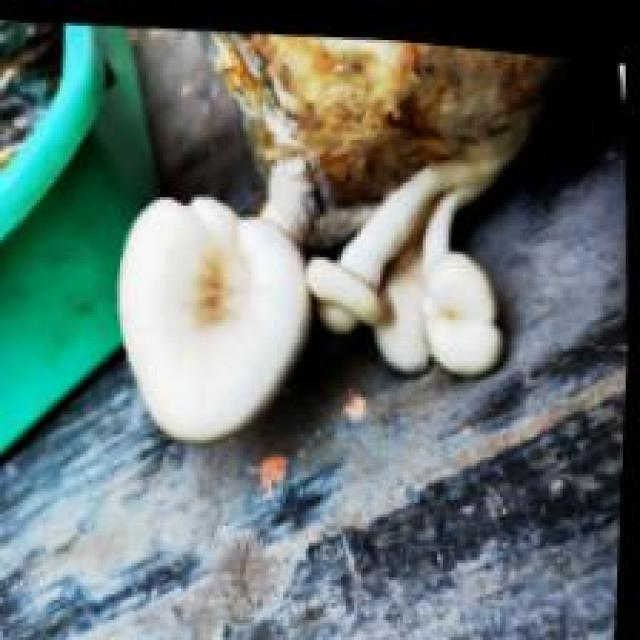field-mushroom: (115, 191, 312, 443)
